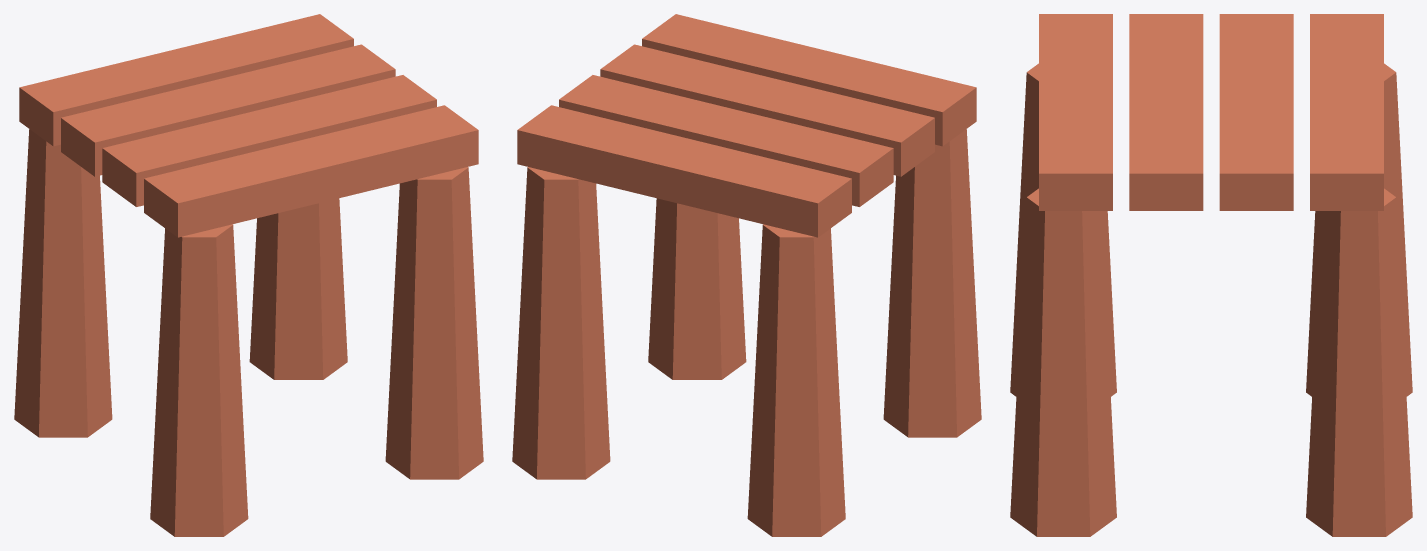
Rendered from platform.obj.
3 renders of one model, left to right at view 1: azimuth 30°, elevation 25°; view 2: azimuth 150°, elevation 25°; view 3: azimuth 270°, elevation 25°, orthographic. The views are drawn at different scales.
Parts seen in each view (by area): view 1: post_nw, post_ne, post_sw, deck_4, post_se, deck_2, deck_1, deck_3; view 2: post_sw, post_se, post_nw, deck_1, post_ne, deck_3, deck_2, deck_4; view 3: post_se, post_ne, deck_2, deck_3, deck_1, deck_4, post_sw, post_nw.
Boxes of the visible parts, left/top/right/bottom form: post_nw: left=150, top=224, right=248, bottom=536; post_ne: left=385, top=167, right=483, bottom=479; post_sw: left=14, top=129, right=112, bottom=437; deck_4: left=144, top=105, right=478, bottom=237; post_se: left=249, top=198, right=347, bottom=379; deck_2: left=61, top=44, right=395, bottom=176; deck_1: left=19, top=14, right=353, bottom=146; deck_3: left=102, top=75, right=436, bottom=206; post_sw: left=747, top=224, right=845, bottom=536; post_se: left=512, top=167, right=610, bottom=479; post_nw: left=883, top=129, right=981, bottom=437; deck_1: left=517, top=105, right=851, bottom=237; post_ne: left=648, top=198, right=746, bottom=379; deck_3: left=600, top=44, right=934, bottom=176; deck_2: left=559, top=75, right=893, bottom=206; deck_4: left=642, top=14, right=976, bottom=146; post_se: left=1306, top=188, right=1412, bottom=536; post_ne: left=1010, top=188, right=1116, bottom=536; deck_2: left=1219, top=14, right=1293, bottom=210; deck_3: left=1129, top=14, right=1203, bottom=210; deck_1: left=1310, top=14, right=1383, bottom=210; deck_4: left=1039, top=14, right=1112, bottom=210; post_sw: left=1306, top=63, right=1412, bottom=396; post_nw: left=1010, top=63, right=1116, bottom=396.
Bounding box in the file's own units: 0.9452 × 0.97 × 0.98.
